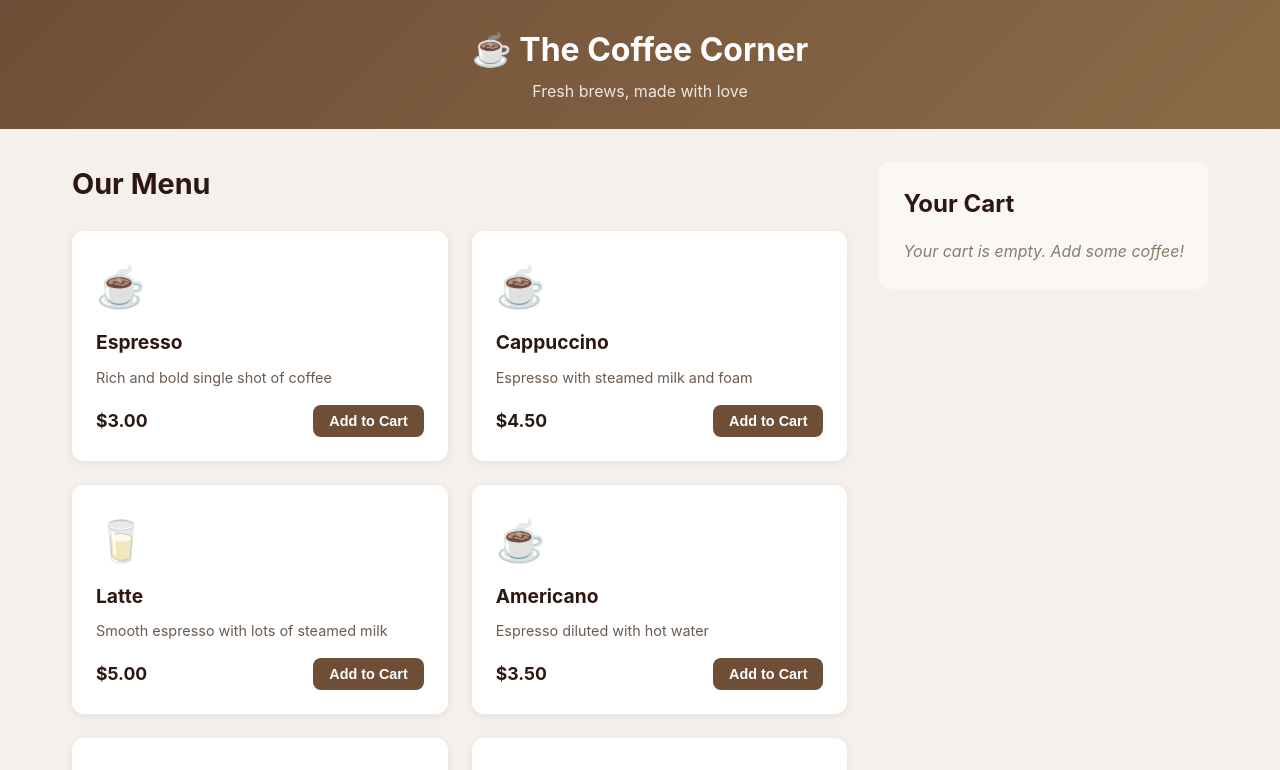
it: Cart Flow Integration › given_menu_displayed_when_add_to_cart_clicked_then_item_appears_in_cart
Click the button with aria-label "Add Espresso to cart". click: (369, 421)
box: [313,405,424,437]
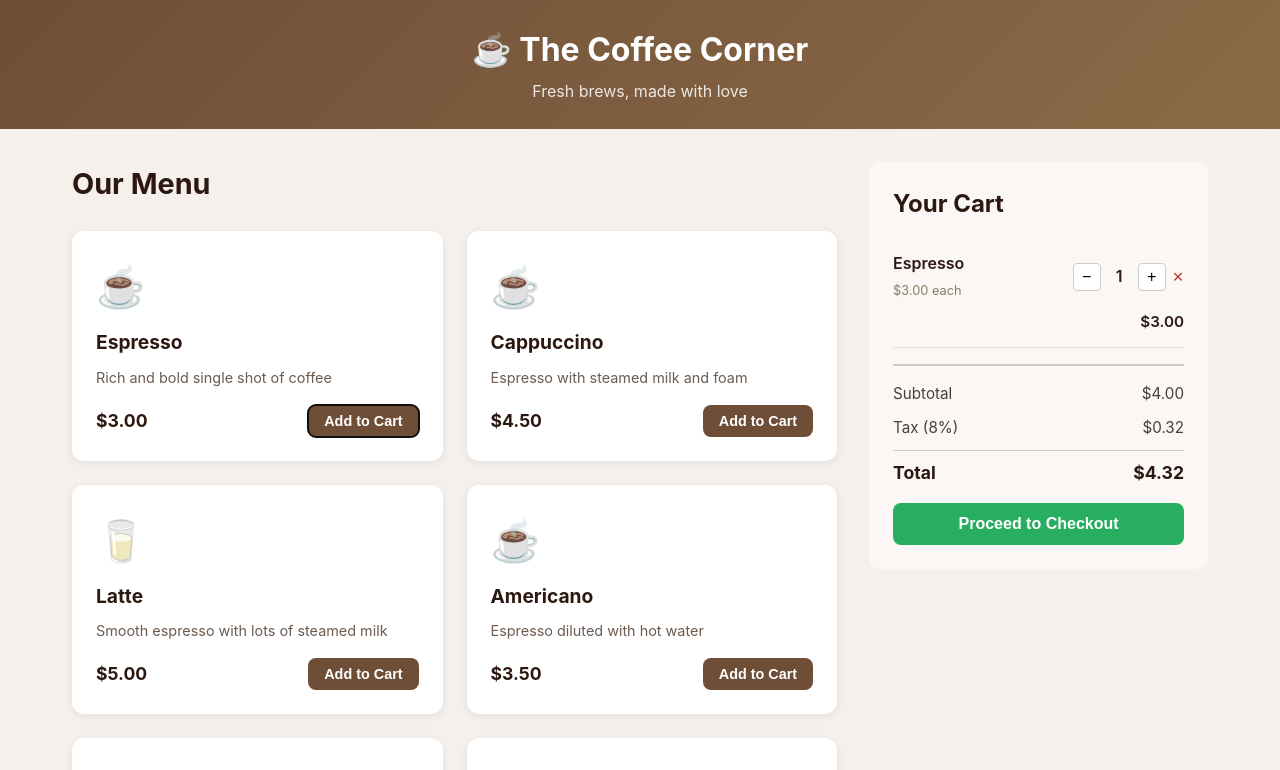
Expected: the list item with test id "cart-item-espresso" is shown, [893,239,1184,348]
Expected: the text with test id "quantity-espresso" reads "1", [1116,266,1123,286]
